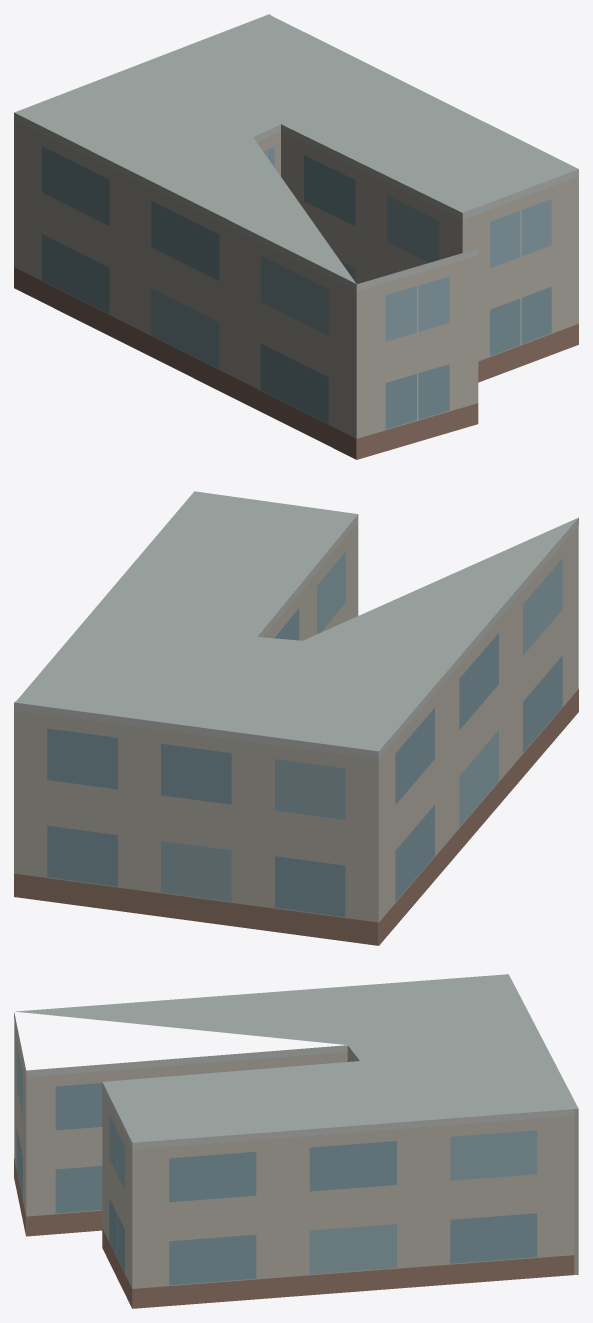
Rendered from survey-upis-32763290.glb.
3 views of the same model, one above another, from view 1: azimuth 30°, elevation 25°; view 2: azimuth 150°, elevation 25°; view 3: azimuth 270°, elevation 25° (orthographic). The views are drawn at different scales.
Visible parts, largest first — view 1: survey-upis-32763290.tmp; view 2: survey-upis-32763290.tmp; view 3: survey-upis-32763290.tmp.
Boxes of the visible parts, <box> form: survey-upis-32763290.tmp: <box>14,14,578,459</box>; survey-upis-32763290.tmp: <box>14,491,578,945</box>; survey-upis-32763290.tmp: <box>14,974,578,1308</box>.
Size of the model in its own units: 13.3 by 6.1 by 18.82.
